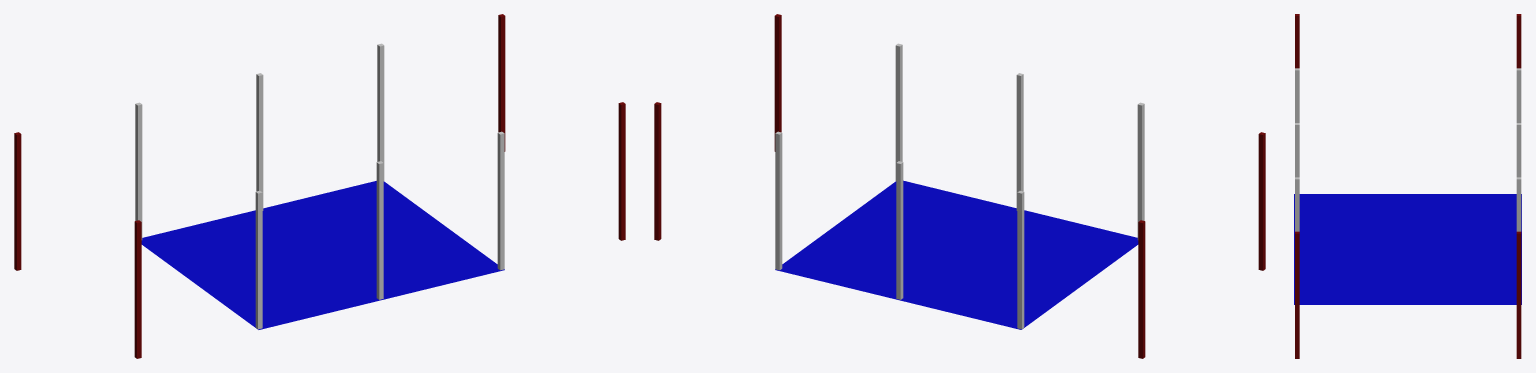
File: venue.dae
The picture shows the model from 3 angles, left to right: view 1: azimuth 30°, elevation 25°; view 2: azimuth 150°, elevation 25°; view 3: azimuth 270°, elevation 25°; orthographic projection. The views are drawn at different scales.
Visible parts, largest first — view 1: Pillar_Footprint, Pillar_Top_L1, Pillar_Bottom_R1, Pillar_Bottom_R2, Pillar_Bottom_R4, Pillar_Bottom_R5, Pillar_Bottom_R3, Pillar_Top_L2, Pillar_Top_R5, Pillar_Top_L3, Pillar_Top_R4; view 2: Pillar_Footprint, Pillar_Top_L1, Pillar_Top_L2, Pillar_Top_R4, Pillar_Top_R5, Pillar_Bottom_R1, Pillar_Top_L3, Pillar_Bottom_R2, Pillar_Bottom_R5, Pillar_Bottom_R3, Pillar_Bottom_R4; view 3: Pillar_Footprint, Pillar_Top_R5, Pillar_Bottom_R5, Pillar_Top_L2, Pillar_Top_R4, Pillar_Top_L1, Pillar_Top_L3, Pillar_Bottom_R1, Pillar_Bottom_R2, Pillar_Bottom_R3, Pillar_Bottom_R4.
Boxes of the visible parts, x1,y1,x2,y2 form: Pillar_Footprint: (141,181,504,329); Pillar_Top_L1: (14,132,21,270); Pillar_Bottom_R1: (134,220,141,358); Pillar_Bottom_R2: (255,190,262,329); Pillar_Bottom_R4: (497,131,504,270); Pillar_Bottom_R5: (618,102,625,240); Pillar_Bottom_R3: (376,161,383,299); Pillar_Top_L2: (135,102,142,239); Pillar_Top_R5: (498,14,505,151); Pillar_Top_L3: (256,73,263,210); Pillar_Top_R4: (377,43,384,180); Pillar_Footprint: (775,180,1138,329); Pillar_Top_L1: (1138,220,1145,358); Pillar_Top_L2: (1017,190,1024,329); Pillar_Top_R4: (775,131,782,270); Pillar_Top_R5: (654,102,661,240); Pillar_Bottom_R1: (1258,132,1265,270); Pillar_Top_L3: (896,161,903,299); Pillar_Bottom_R2: (1137,102,1144,239); Pillar_Bottom_R5: (774,14,781,151); Pillar_Bottom_R3: (1016,73,1023,210); Pillar_Bottom_R4: (895,43,902,180); Pillar_Footprint: (1294,194,1521,304); Pillar_Top_R5: (1516,231,1521,358); Pillar_Bottom_R5: (1295,231,1299,358); Pillar_Top_L2: (1516,68,1521,122); Pillar_Top_R4: (1516,177,1521,231); Pillar_Top_L1: (1516,14,1521,68); Pillar_Top_L3: (1516,123,1521,177); Pillar_Bottom_R1: (1295,14,1299,68); Pillar_Bottom_R2: (1295,68,1299,122); Pillar_Bottom_R3: (1295,123,1299,177); Pillar_Bottom_R4: (1295,177,1299,231).
Bounding box in the file's own units: 3012 × 803 × 1320.
